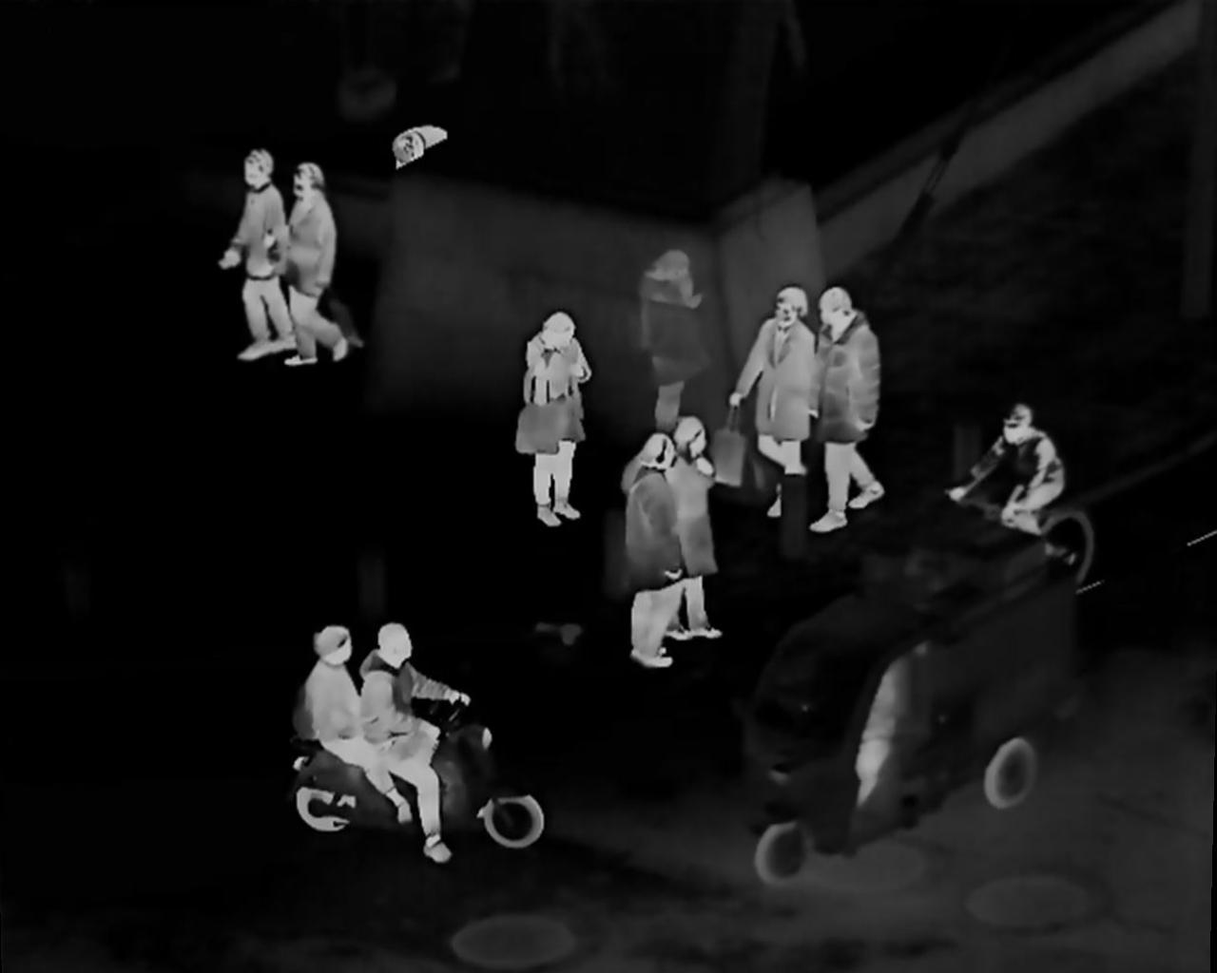person: (349, 626, 466, 854), (797, 282, 888, 531), (512, 315, 593, 540), (730, 290, 811, 480), (287, 627, 380, 785), (669, 404, 731, 639), (631, 424, 688, 674), (226, 145, 298, 341), (275, 161, 337, 362), (1001, 404, 1081, 557)
